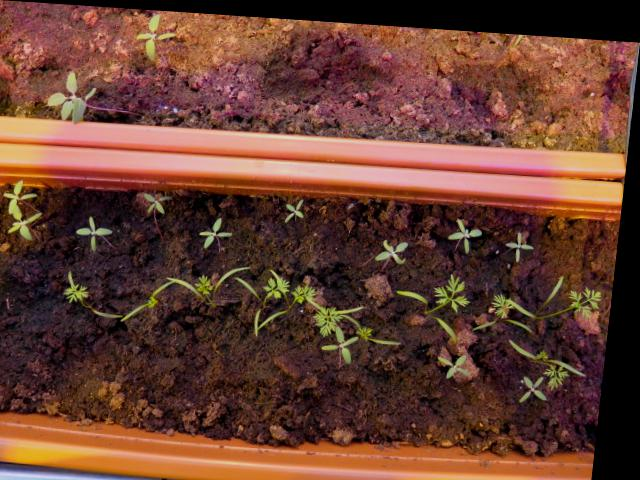weed: (131, 7, 180, 61), (77, 208, 122, 250), (447, 206, 489, 249), (199, 208, 242, 249), (504, 220, 541, 257), (375, 230, 416, 262), (144, 187, 178, 215), (283, 190, 312, 222), (0, 376, 2, 417)
